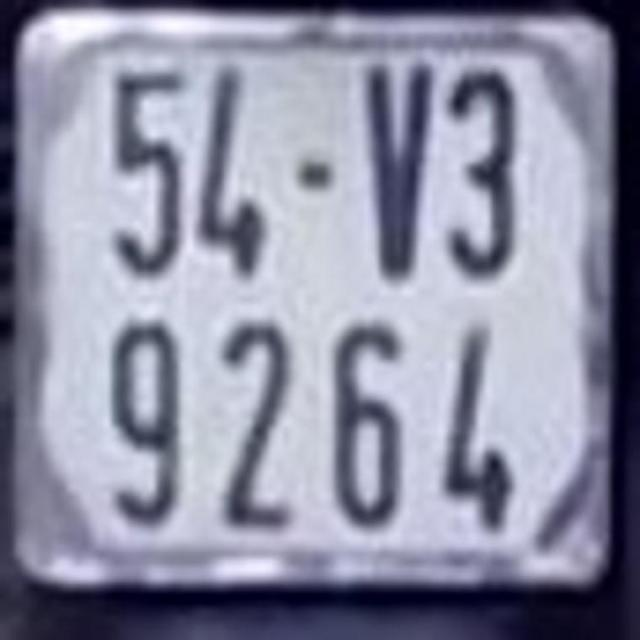2: (212, 313, 296, 528)
3: (442, 64, 522, 284)
4: (437, 316, 520, 532), (192, 60, 266, 282)
5: (106, 64, 184, 284)
6: (328, 315, 403, 527)
9: (105, 315, 183, 527)
V: (358, 56, 434, 287)
